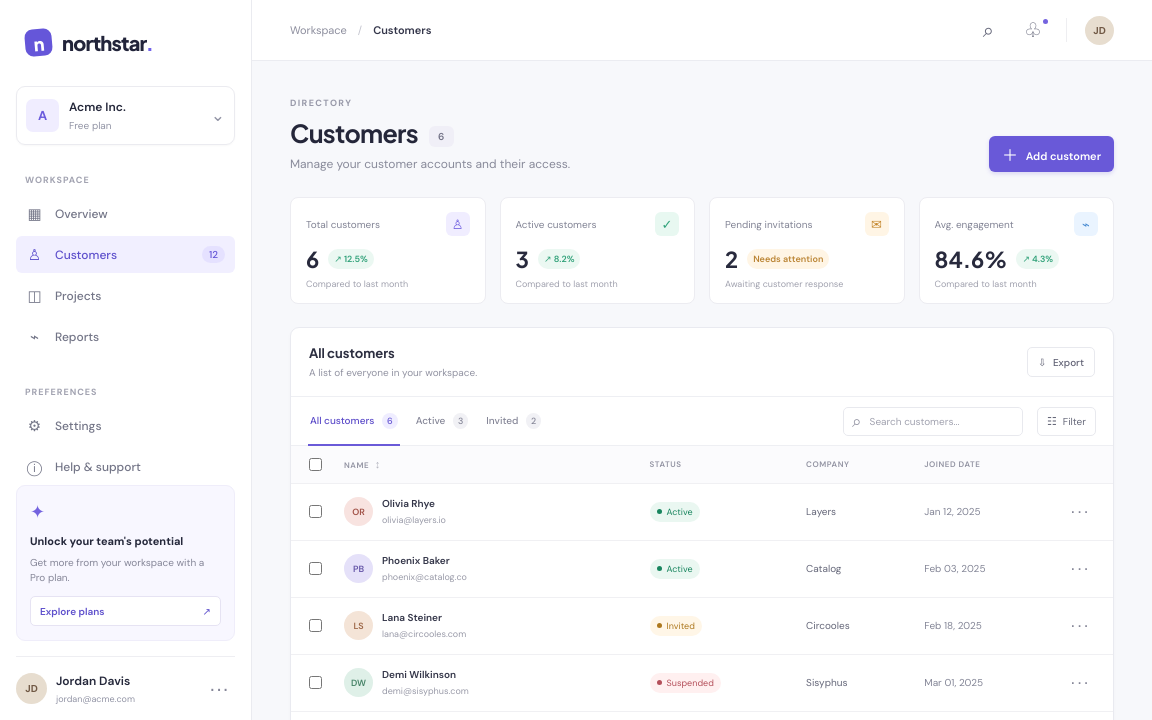
Test: customer directory › renders customer metrics, searchable records, and empty results
Check: the heading "Customers 6" is shown, box [290,117,454,149]
Check: the text "Olivia Rhye" is shown, box [382,497,435,510]
Type "circooles" into the field named "Search customers".
click(941, 421); type("circooles")  # box [868,414,1014,428]
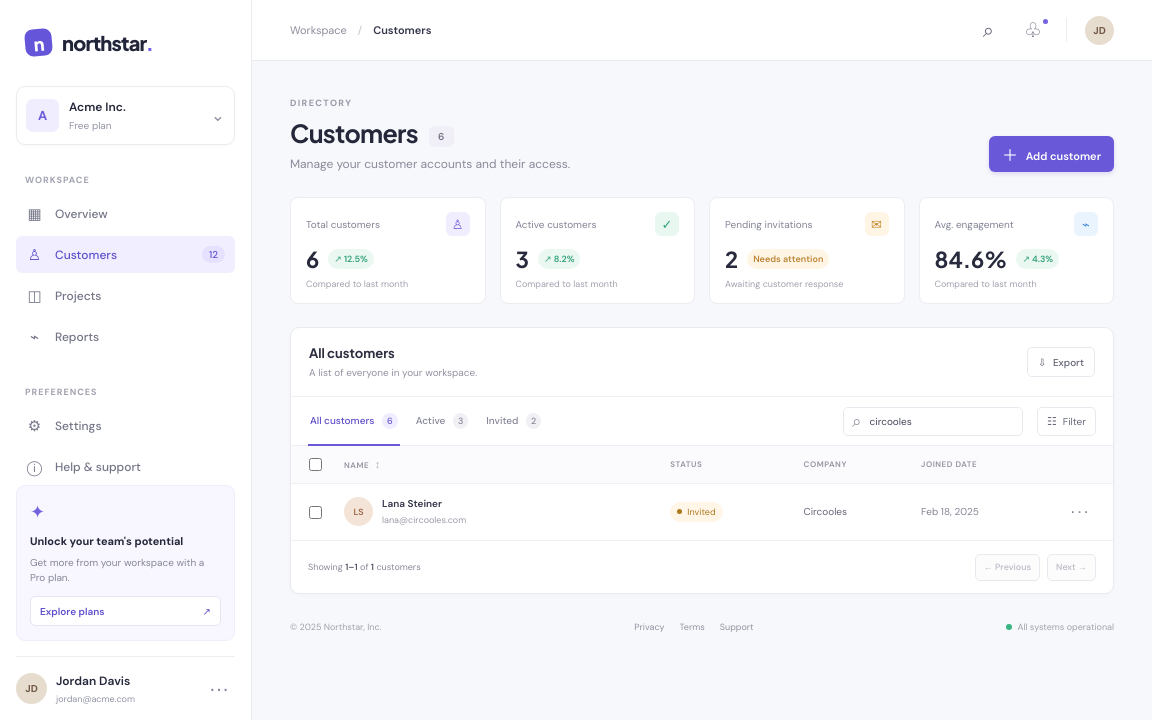
Check: the text "Lana Steiner" is shown, box [382,497,442,510]
Check: the text "Olivia Rhye" is gone
Replace the text in the field named "Search customers" with "nobody" at (941, 421), box [868,414,1014,428]
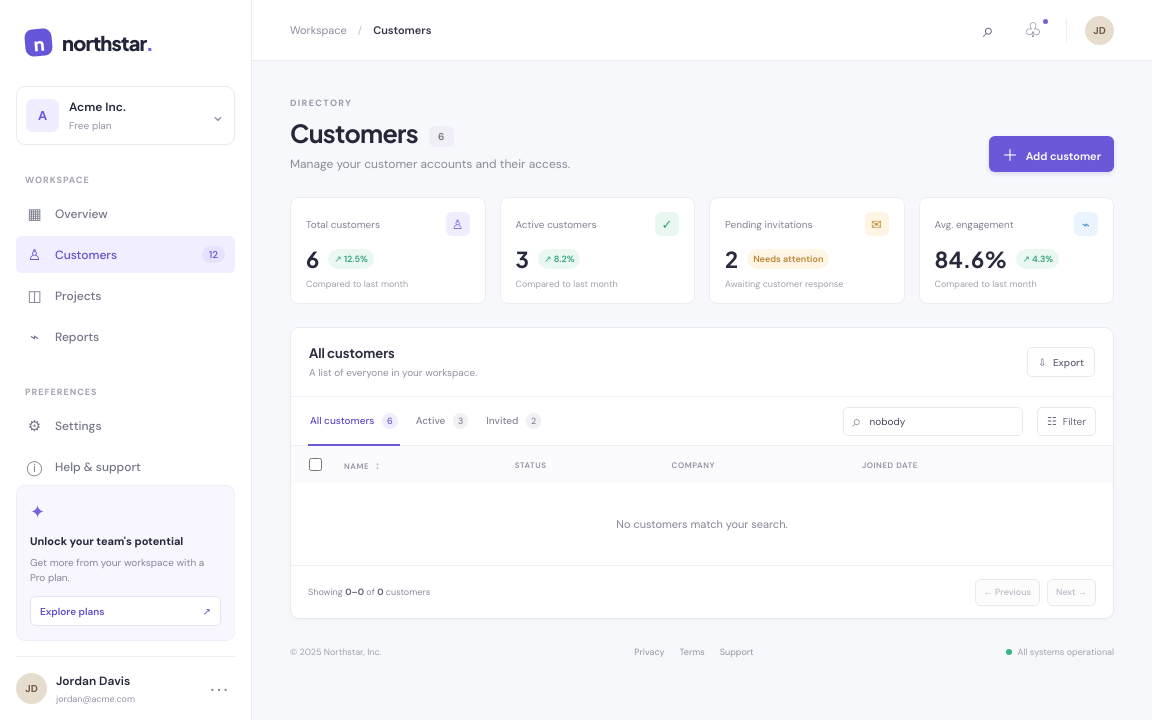
Check: the text "No customers match your search." is shown, box [616,517,788,531]
